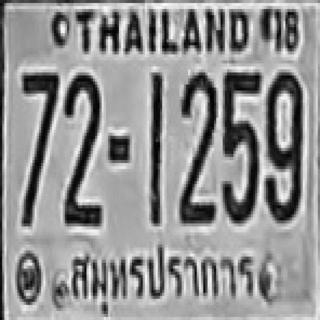N01: (149, 72, 162, 205)
N02: (61, 88, 100, 223), (179, 72, 216, 205), (64, 71, 101, 204)
N05: (220, 70, 260, 220), (222, 70, 260, 160)
N07: (20, 70, 58, 218), (20, 69, 58, 175), (20, 70, 58, 160)
N09: (264, 70, 301, 220)
P57: (62, 238, 261, 307)
